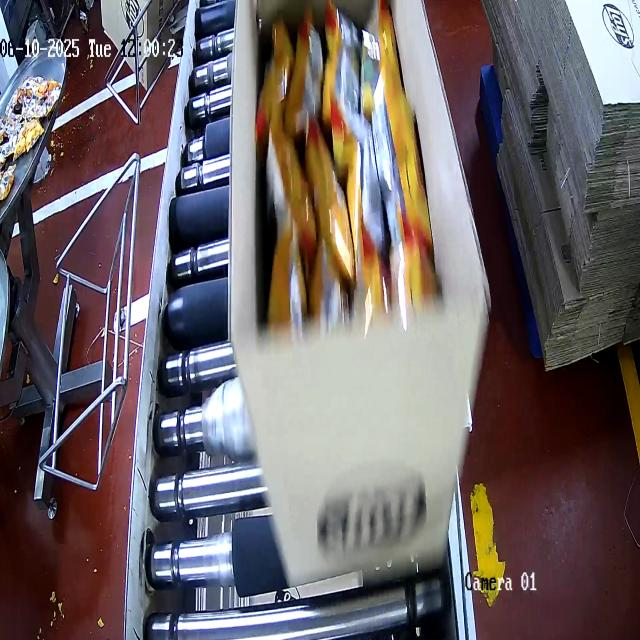FRENCH_CHEESE: (259, 18, 433, 311)
